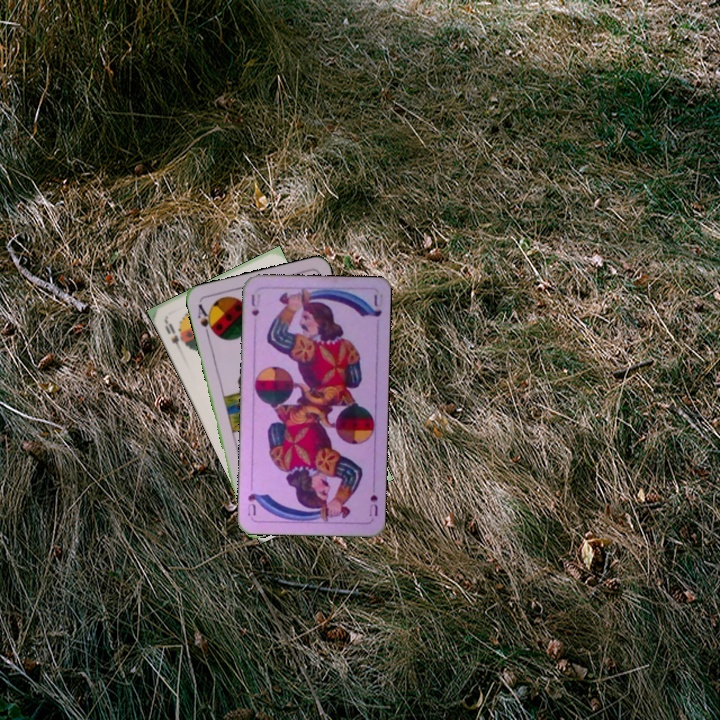SA: (193, 300, 218, 340)
SO: (160, 317, 185, 355)
SU: (365, 480, 380, 519), (247, 290, 263, 318)
